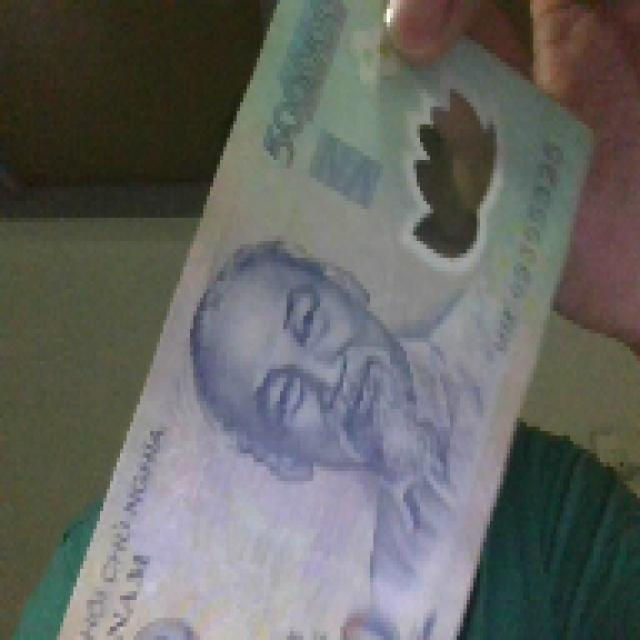500 000 VND: (0, 0, 600, 636)
